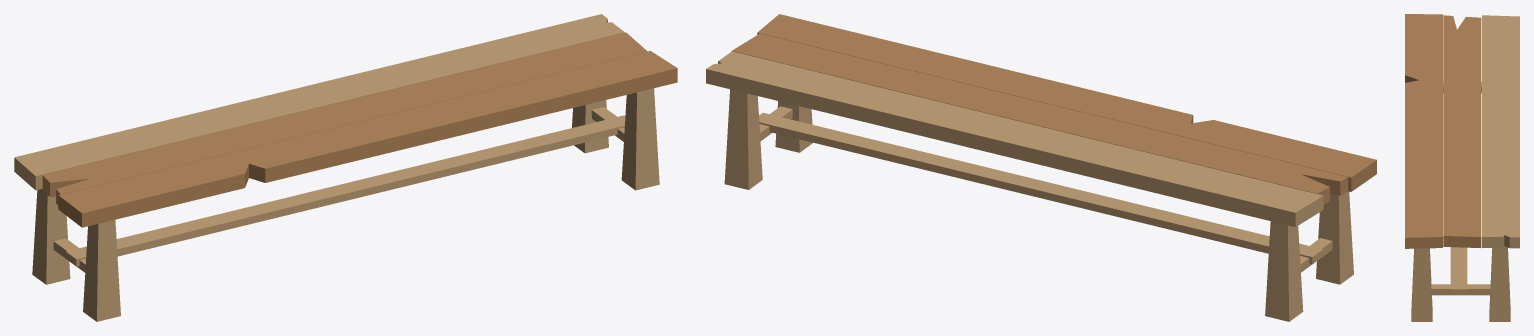
The model's file is bench.fbx.
3 renders of one model, left to right at view 1: azimuth 30°, elevation 25°; view 2: azimuth 150°, elevation 25°; view 3: azimuth 270°, elevation 25°, orthographic. The views are drawn at different scales.
Parts seen in each view (by area): view 1: bench; view 2: bench; view 3: bench.
Part boxes in pixels (x1=…): bench: x1=14, y1=14, x2=677, y2=321; bench: x1=706, y1=14, x2=1376, y2=321; bench: x1=1405, y1=14, x2=1519, y2=321.
Bounding box in the file's own units: 293 × 54.48 × 63.39.
